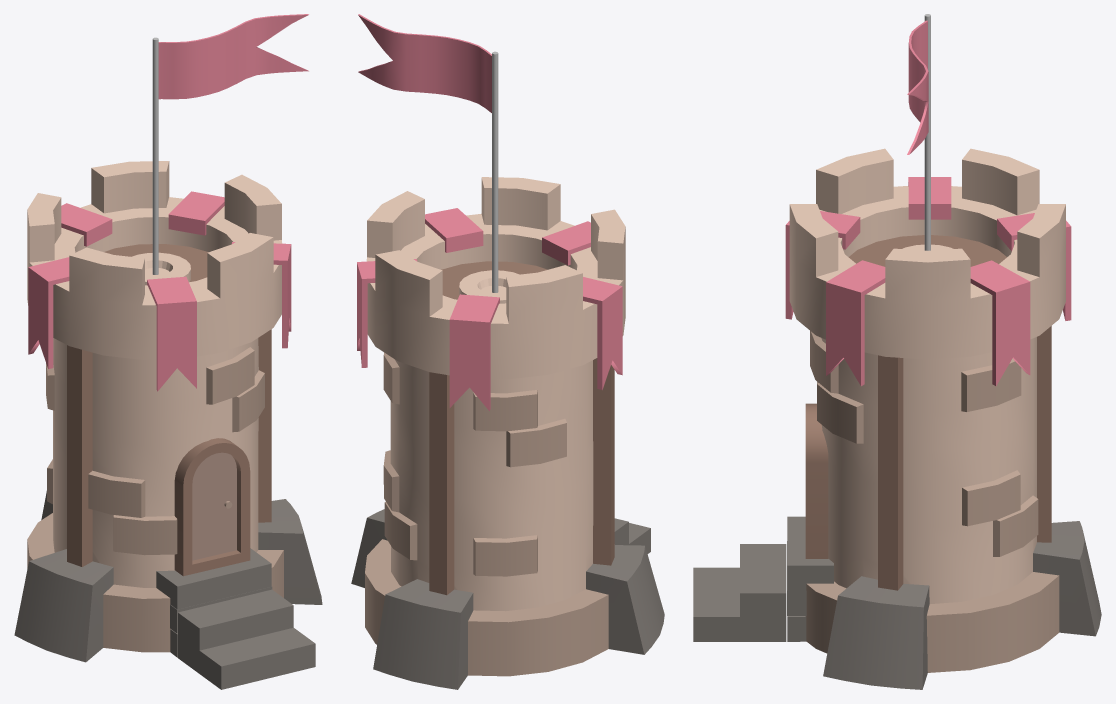
The model's file is Tower.fbx.
3 renders of one model, left to right at view 1: azimuth 30°, elevation 25°; view 2: azimuth 150°, elevation 25°; view 3: azimuth 270°, elevation 25°, orthographic. The views are drawn at different scales.
Visible parts, largest first — view 1: Tower; view 2: Tower; view 3: Tower.
Boxes of the visible parts, <box> form: Tower: <box>14,14,322,689</box>; Tower: <box>351,14,664,689</box>; Tower: <box>693,14,1101,689</box>.
Size of the model in its own units: 46.55 by 86.47 by 53.3.
